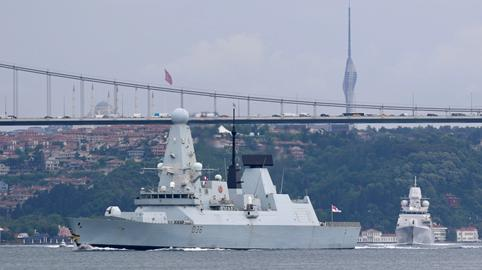warship: (65, 96, 366, 250), (390, 175, 442, 249)
